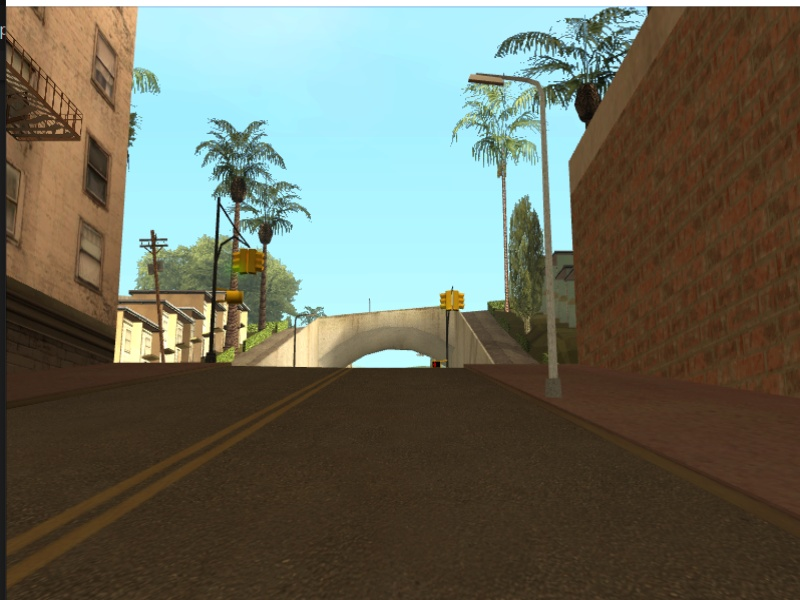pole: (528, 81, 567, 396), (139, 232, 178, 361), (209, 203, 221, 360), (442, 308, 456, 369), (290, 315, 303, 366)
tree: (498, 170, 512, 314)
